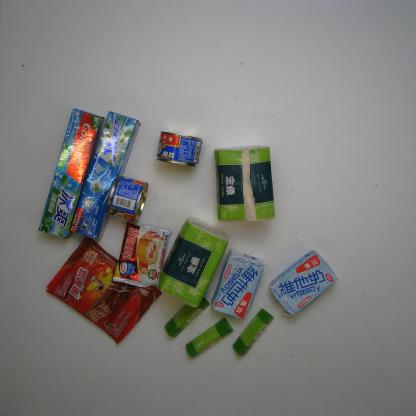Canned Food: (105, 174, 150, 224), (153, 129, 204, 168)
Dessert: (44, 234, 164, 346), (110, 218, 174, 290)
Milk: (268, 248, 339, 318), (209, 247, 267, 322)
Personal Hygiene: (67, 109, 142, 241), (35, 106, 106, 240)
Stationery: (162, 294, 212, 340), (184, 315, 235, 360), (230, 307, 275, 358)
Tissue: (157, 213, 230, 309), (212, 143, 278, 224)
